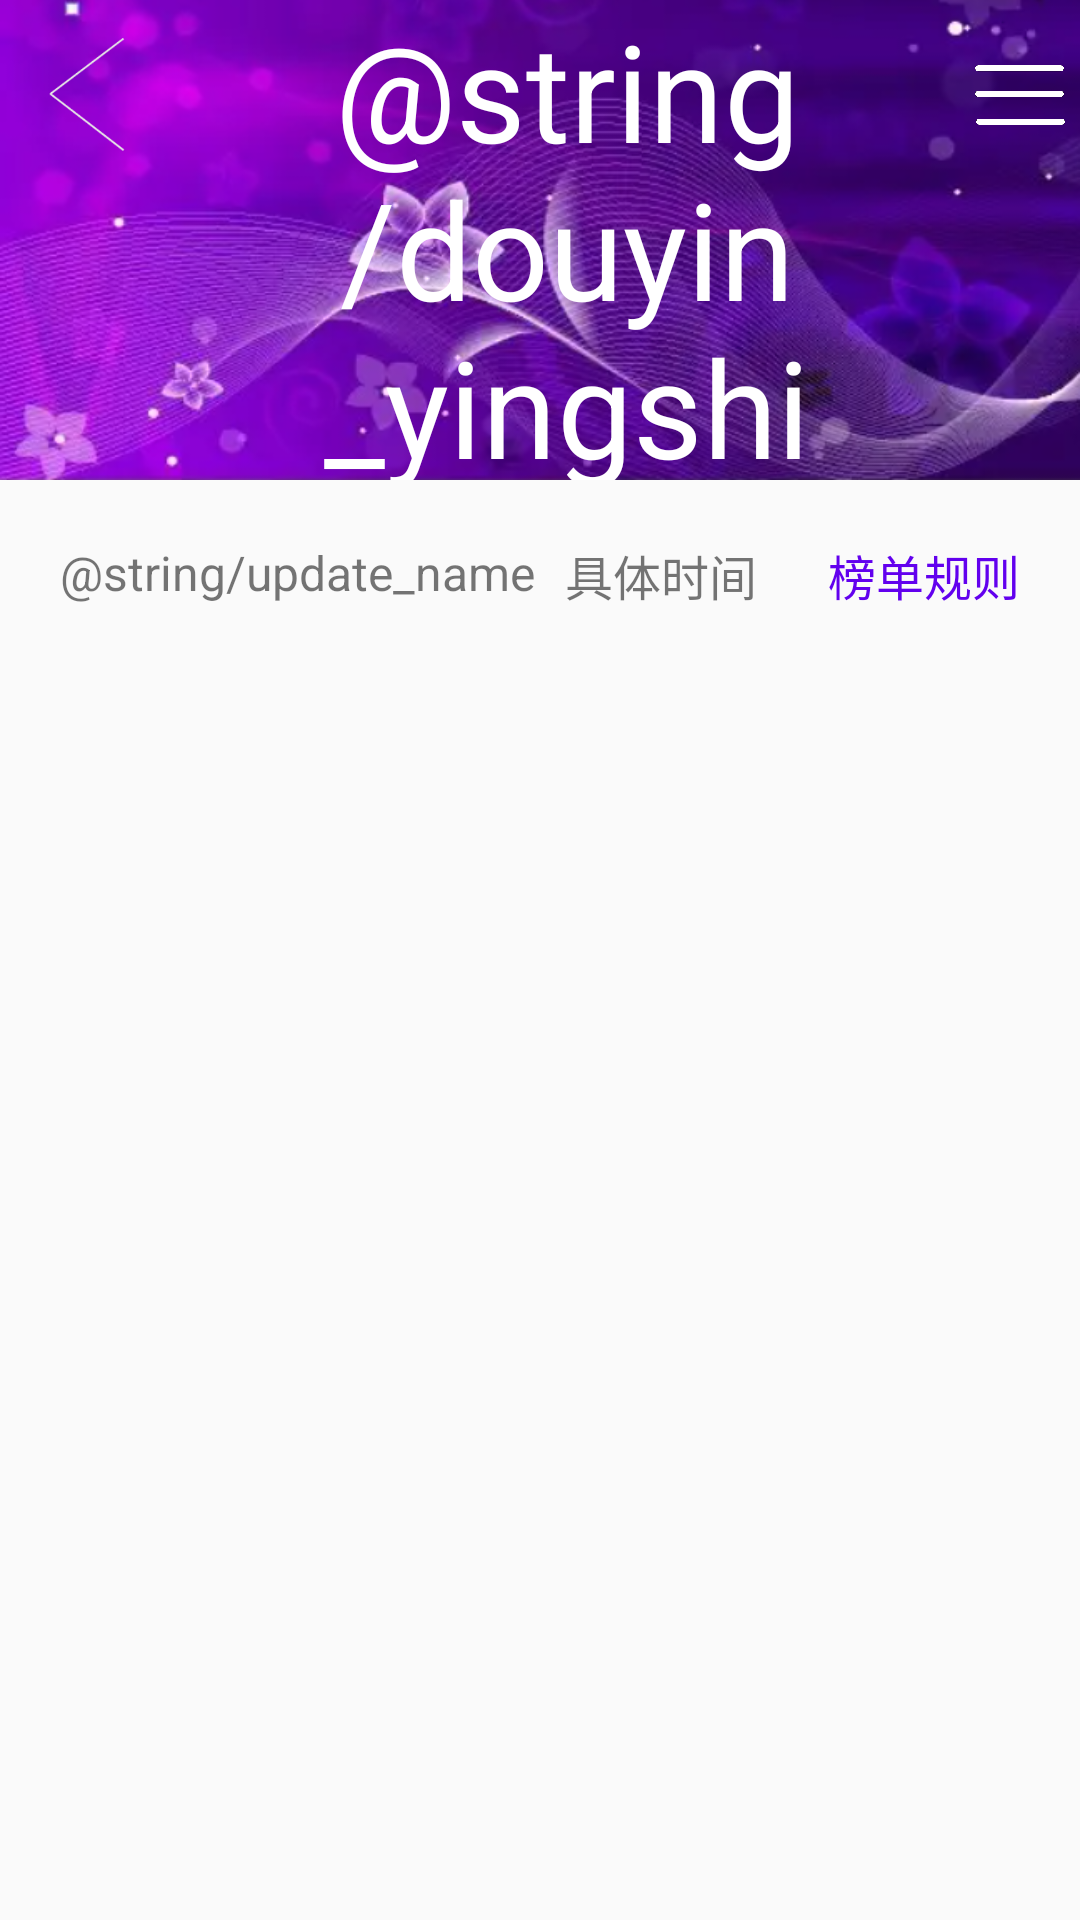

Screen size 1080×1920. Icon name, then its center in pixels as (x=x, y=y):
back: (x=104, y=94)
menu: (x=1020, y=95)
